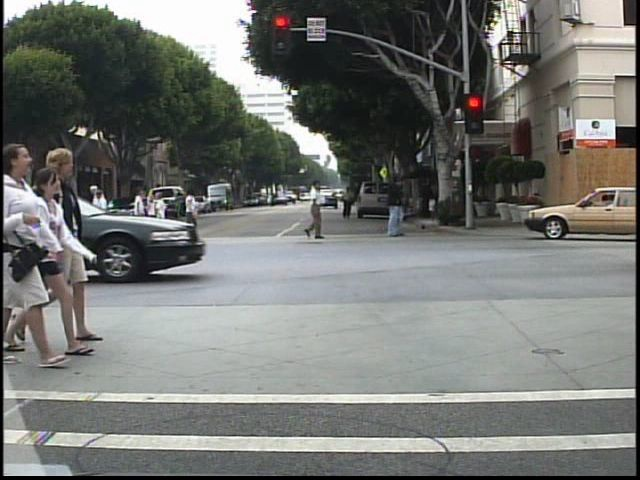person: (9, 163, 74, 364), (42, 145, 104, 349), (374, 168, 411, 241), (302, 177, 331, 241), (128, 189, 154, 251), (93, 188, 119, 246), (179, 188, 202, 247), (86, 183, 103, 246), (340, 184, 356, 220)
